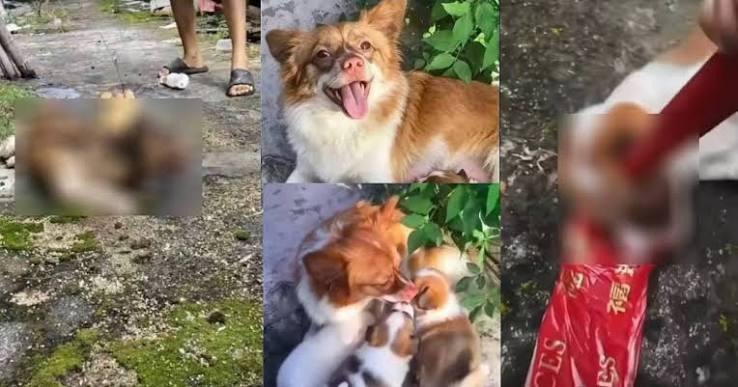adult_dog: (266, 0, 499, 184), (16, 88, 204, 219), (556, 99, 698, 269), (289, 194, 429, 342)
non-dog: (644, 0, 738, 182), (168, 0, 256, 98)
puppy-dog: (402, 243, 488, 387), (277, 307, 374, 387), (339, 297, 422, 387)
